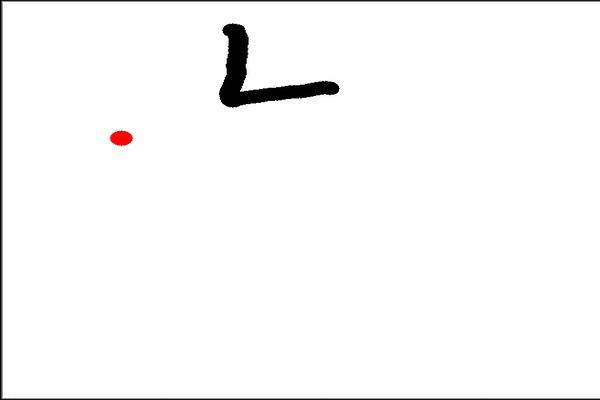L: (213, 15, 345, 111)
